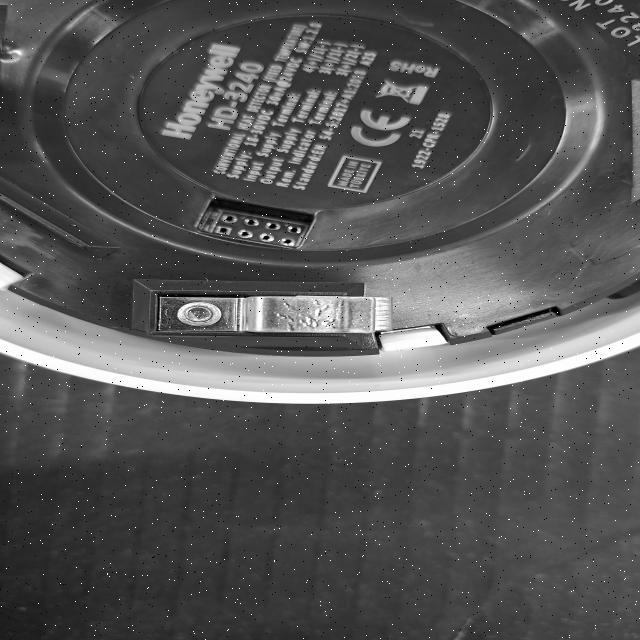yayli: (130, 282, 411, 347)
